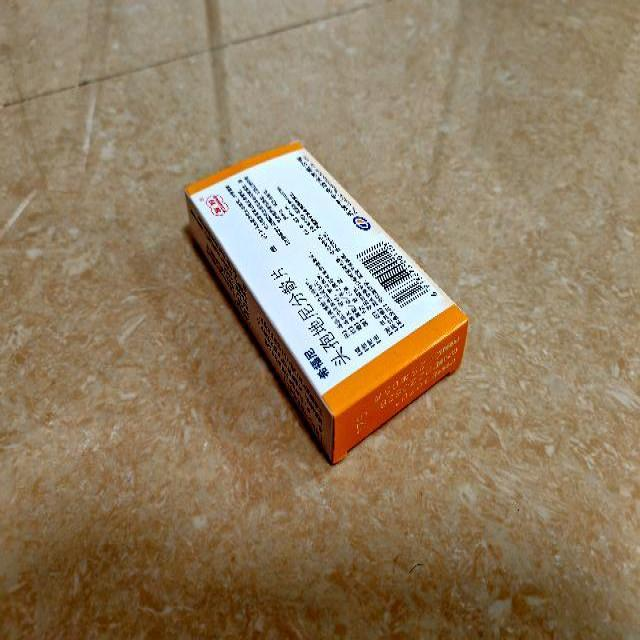box: (185, 141, 470, 464)
